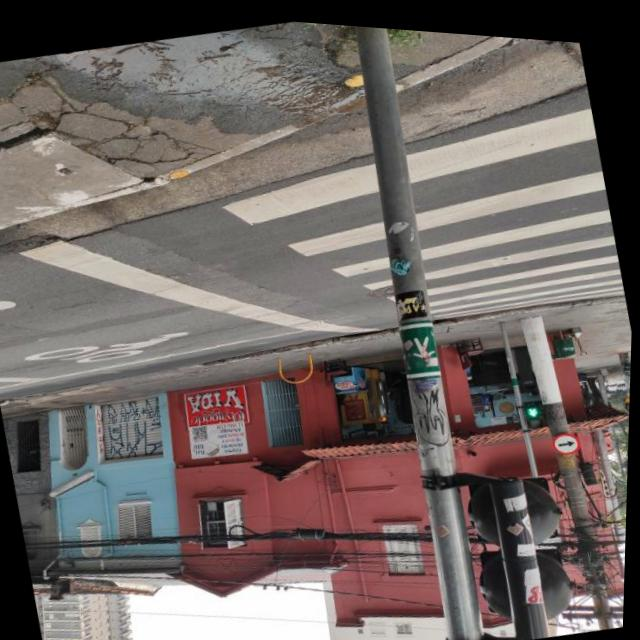qrcode: (194, 421, 210, 438)
